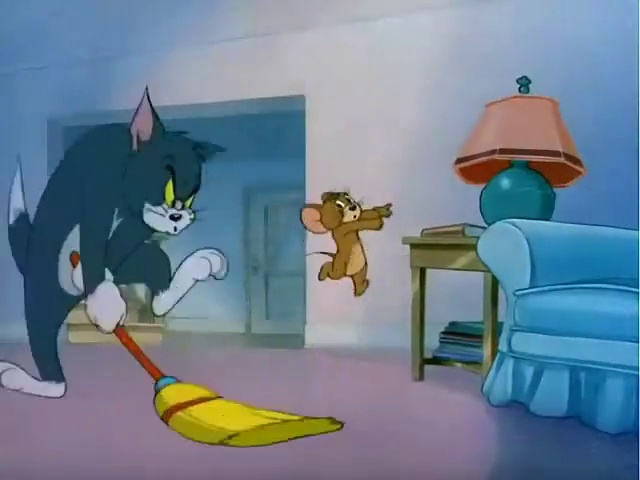jerry: (286, 163, 417, 322)
tom: (4, 94, 256, 426)
